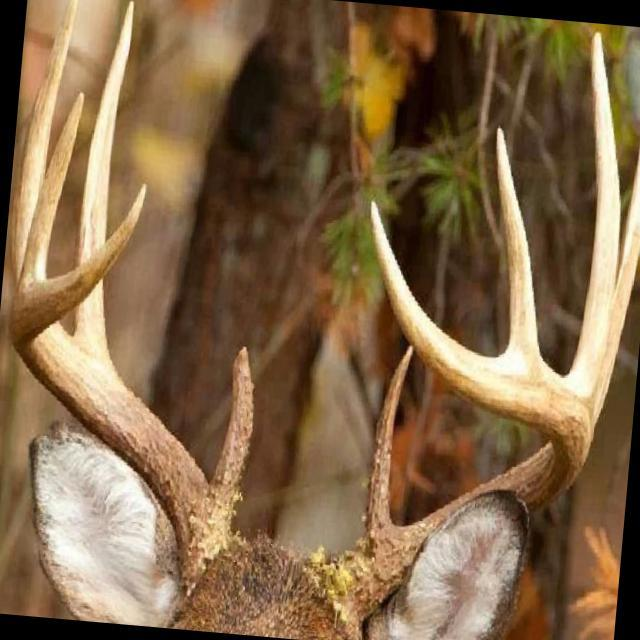L-F: (304, 198, 592, 640)
L-G1: (360, 343, 412, 541)
L-G3: (566, 30, 620, 420)
L-G4: (496, 125, 543, 362)
R-F: (8, 181, 236, 594)
R-G1: (205, 343, 254, 527)
R-G4: (15, 92, 85, 296)
